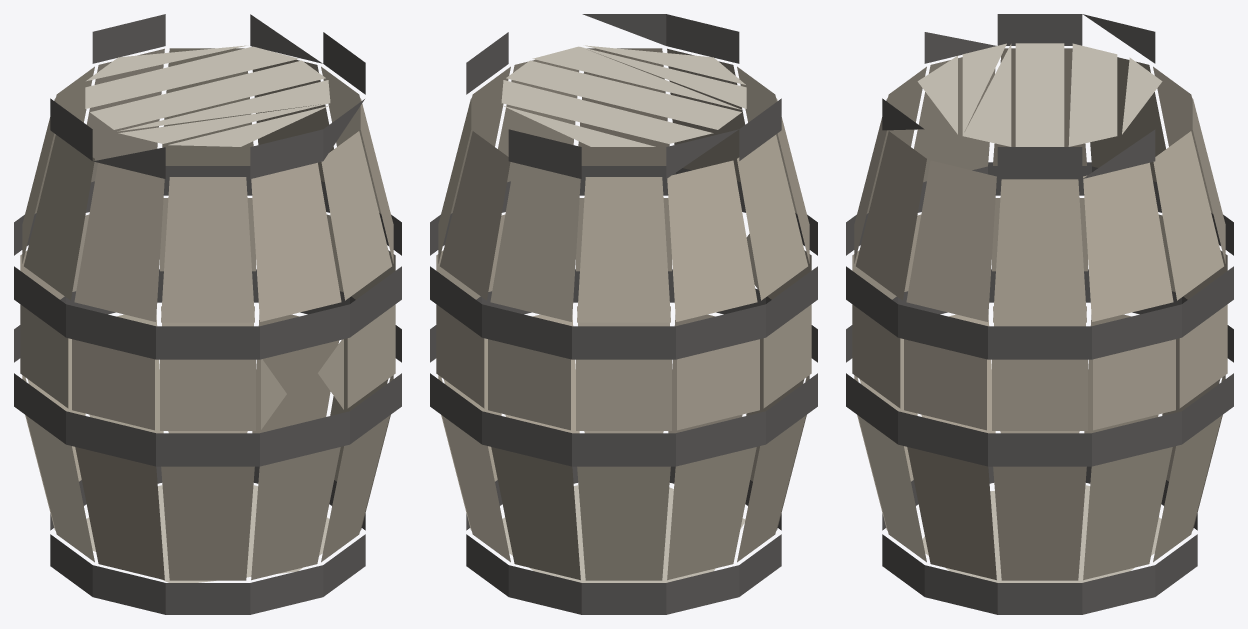
The model's file is barrel.lod.glb.
The picture shows the model from 3 angles, left to right: view 1: azimuth 30°, elevation 25°; view 2: azimuth 150°, elevation 25°; view 3: azimuth 270°, elevation 25°; orthographic projection.
Parts seen in each view (by area): view 1: barrel.001; view 2: barrel.001; view 3: barrel.001.
Boxes of the visible parts, x1=… form: barrel.001: x1=14, y1=14, x2=401, y2=614; barrel.001: x1=430, y1=14, x2=817, y2=614; barrel.001: x1=846, y1=14, x2=1233, y2=614.
Size of the model in its own units: 0.6046 by 0.805 by 0.6046.
